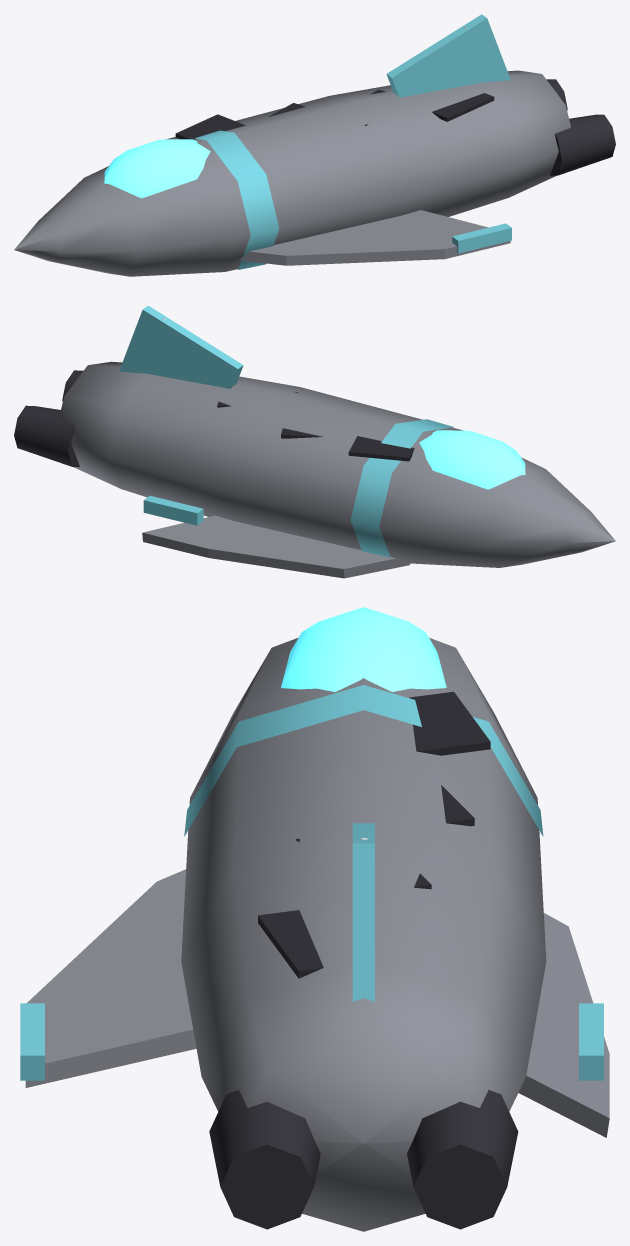
The model's file is nave-procedural-danada.glb.
The picture shows the model from 3 angles, top to bottom: view 1: azimuth 30°, elevation 25°; view 2: azimuth 150°, elevation 25°; view 3: azimuth 270°, elevation 25°; orthographic projection. The views are drawn at different scales.
Visible parts, largest first — view 1: Casco, Ala_N, Aleta, Cabina, Franja, Tobera_S, PuntaAla_N, Quemadura_0, Quemadura_3; view 2: Casco, Ala_S, Aleta, Cabina, Franja, Tobera_N, PuntaAla_S, Quemadura_0; view 3: Casco, Ala_N, Tobera_S, Tobera_N, Cabina, Ala_S, Franja, Aleta, Quemadura_0, Quemadura_3, PuntaAla_N, PuntaAla_S.
Boxes of the visible parts, x1,y1,x2,y2 form: Casco: (14,70,570,276); Ala_N: (239,210,510,265); Aleta: (386,14,510,97); Cabina: (104,139,210,198); Franja: (194,130,279,269); Tobera_S: (550,114,615,175); PuntaAla_N: (452,223,511,253); Quemadura_0: (175,114,245,139); Quemadura_3: (432,93,494,121); Casco: (59,361,615,567); Ala_S: (142,515,409,578); Aleta: (119,305,243,388); Cabina: (419,430,525,489); Franja: (350,419,453,557); Tobera_N: (14,405,79,466); PuntaAla_S: (143,495,203,525); Quemadura_0: (348,436,414,461); Casco: (181,638,546,1231); Ala_N: (25,869,196,1087); Tobera_S: (209,1090,320,1229); Tobera_N: (407,1090,518,1229); Cabina: (281,607,446,691); Ala_S: (518,913,609,1137); Franja: (184,685,543,836); Aleta: (352,823,374,1001); Quemadura_0: (409,691,490,755); Quemadura_3: (258,910,323,978); PuntaAla_N: (20,1003,44,1080); PuntaAla_S: (579,1003,603,1080).
Bounding box in the file's own units: 9.47 × 2.94 × 4.27.
